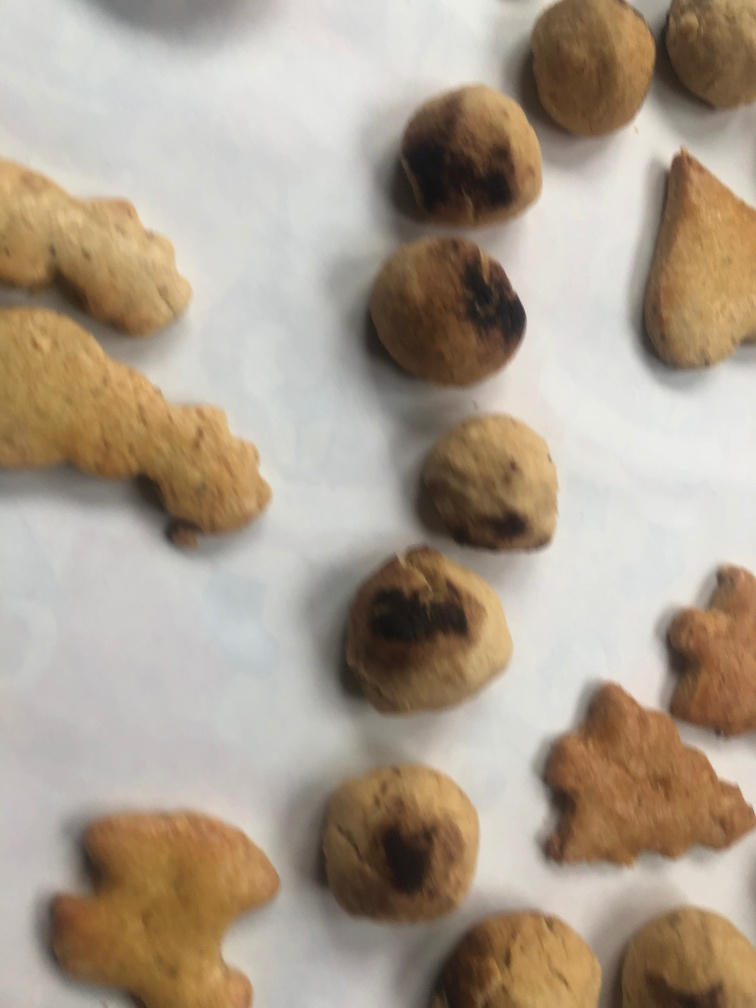christmas tree: (538, 679, 755, 874), (660, 563, 756, 745)
heart: (633, 143, 756, 370)
lamb: (31, 798, 287, 1007)
snowball: (334, 543, 520, 723), (315, 762, 480, 930), (364, 234, 535, 390), (382, 78, 549, 234), (405, 408, 563, 566), (521, 1, 662, 144), (422, 904, 604, 1008), (609, 905, 756, 1008), (662, 5, 756, 111)
snowman: (1, 296, 275, 571), (1, 155, 190, 343)
